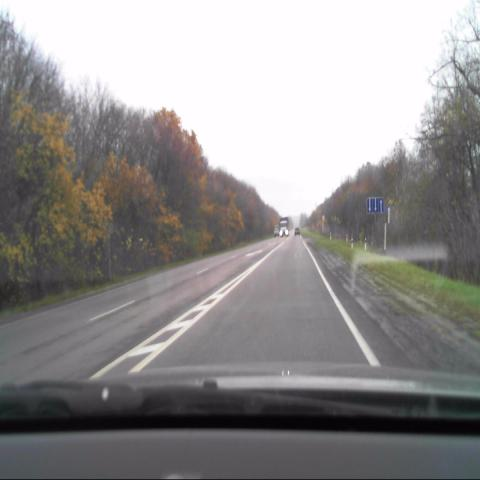5_15_7: (366, 197, 382, 214)
